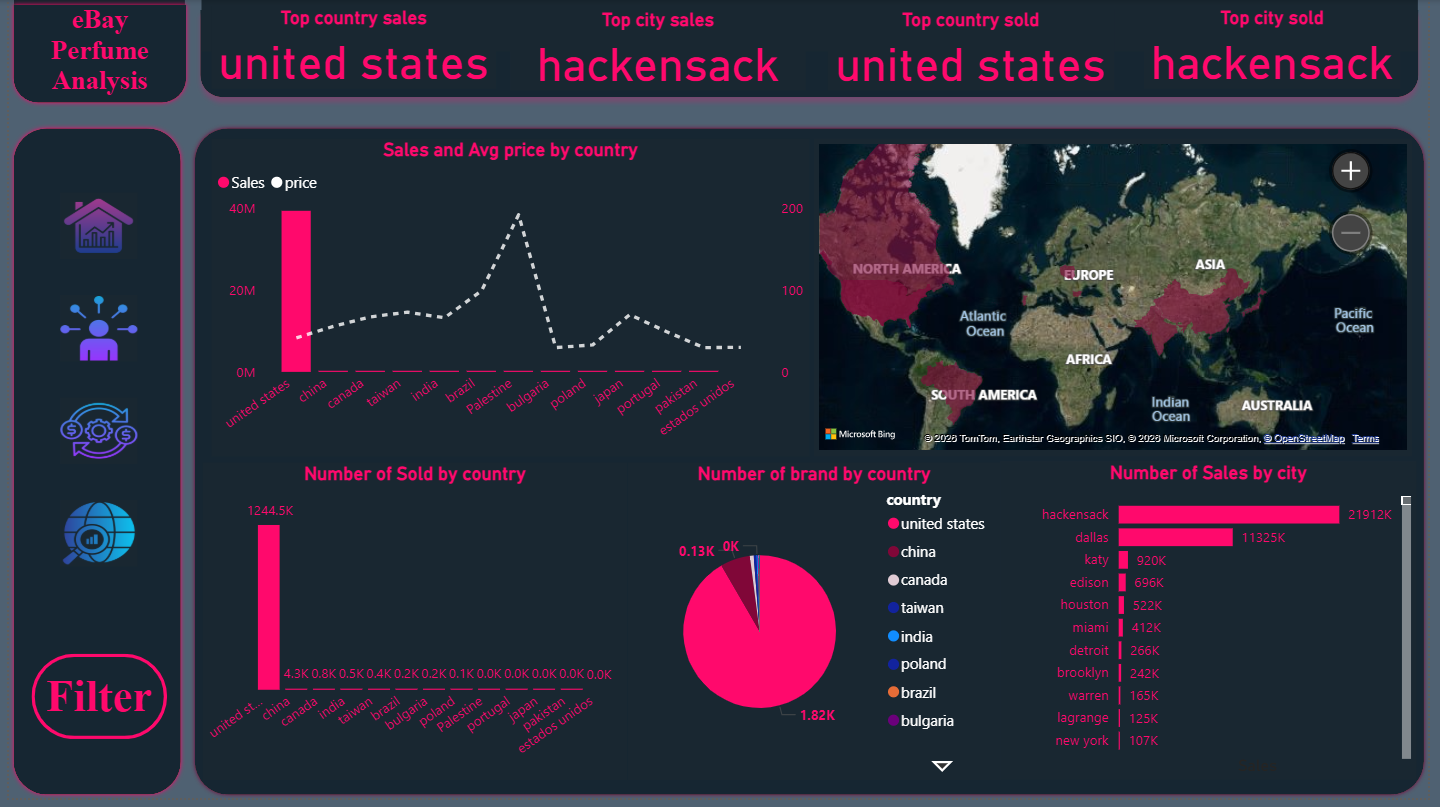

This screenshot's page, from the dashboard's own definition file:
{"tool":"powerbi","page":{"name":"Geographical Distribution","canvas":[1280,720],"ordinal":3},"visuals":[{"type":"shape","box":[0,111.3,159,609],"z":0},{"type":"actionButton","box":[46.5,173.6,69.7,59.9],"z":0,"group":"g1"},{"type":"shape","box":[163.9,0,1116.4,96.6],"z":1000},{"type":"actionButton","box":[46.5,266.1,69.7,59.9],"z":1000,"group":"g1"},{"type":"shape","box":[163.6,111,1116.4,609],"z":2000},{"type":"actionButton","box":[46.5,451.2,69.7,59.9],"z":2000,"group":"g1"},{"type":"filledMap","fields":{"Category":["perfum_cleaned.country"]},"box":[726.4,124.7,539.3,286.1],"z":3000},{"type":"actionButton","box":[46.5,358.7,69.7,59.9],"z":3000,"group":"g1"},{"type":"lineClusteredColumnComboChart","title":"Sales and Avg price by country","fields":{"Category":["perfum_cleaned.country"],"Y":["Sum(perfum_cleaned.Sales)"],"Y2":["Avg(perfum_cleaned.price)"]},"box":[182.2,124.7,539.3,286.1],"z":4000},{"type":"clusteredColumnChart","title":"Number of Sold by country","fields":{"Category":["perfum_cleaned.country"],"Y":["Sum(perfum_cleaned.sold)"]},"box":[174.9,417,382.7,286.1],"z":5000},{"type":"pieChart","title":"Number of brand by country","fields":{"Category":["perfum_cleaned.country"],"Y":["CountNonNull(perfum_cleaned.brand)"]},"box":[557.6,417,336.3,286.1],"z":6000},{"type":"clusteredBarChart","title":"Number  of Sales by city","fields":{"Category":["perfum_cleaned.city"],"Y":["Sum(perfum_cleaned.Sales)"]},"box":[893.9,415.8,375.4,287.4],"z":7000},{"type":"shape","box":[173.6,0,1096.9,46.5],"z":8000},{"type":"card","title":"Top country sales","fields":{"Values":["perfum_cleaned.Top country sales"]},"box":[182.2,6.1,256.8,74.6],"z":9000},{"type":"card","title":"Top country sold","fields":{"Values":["perfum_cleaned.Top country sold"]},"box":[738.6,7.3,258,73.4],"z":10000},{"type":"card","title":"Top city sales","fields":{"Values":["perfum_cleaned.Top city sales"]},"box":[452.4,7.3,266.6,73.4],"z":11000},{"type":"card","title":"Top city sold","fields":{"Values":["perfum_cleaned.Top city sold"]},"box":[1023.5,6.1,231.1,74.6],"z":12000},{"type":"group","id":"g1","title":"Group 1","box":[46.5,173.6,69.7,337.5],"z":13000},{"type":"shape","box":[4.9,0,154.1,42.8],"z":14000},{"type":"shape","title":"eBay Perfume Market Analysis","box":[0,0,163.9,96.6],"z":15000},{"type":"actionButton","title":"filter","box":[20.8,589.4,122.3,77],"z":16000}]}

Visuals, with their boxes in screenshot pixels (x1, y1, x2, y2), scaled from the page's 1280x720 canvas onto the 1440x807 screenshot:
shape: 0 125 179 806
actionButton: 52 195 131 262
shape: 184 0 1439 108
actionButton: 52 298 131 365
shape: 184 124 1439 806
actionButton: 52 506 131 573
filledMap - perfum_cleaned.country: 817 140 1424 460
actionButton: 52 402 131 469
"Sales and Avg price by country" lineClusteredColumnComboChart: 205 140 812 460
"Number of Sold by country" clusteredColumnChart: 197 467 627 788
"Number of brand by country" pieChart: 627 467 1006 788
"Number  of Sales by city" clusteredBarChart: 1006 466 1428 788
shape: 195 0 1429 52
"Top country sales" card: 205 7 494 90
"Top country sold" card: 831 8 1121 90
"Top city sales" card: 509 8 809 90
"Top city sold" card: 1151 7 1411 90
"Group 1" group: 52 195 131 573
shape: 6 0 179 48
"eBay Perfume Market Analysis" shape: 0 0 184 108
"filter" actionButton: 23 661 161 747
